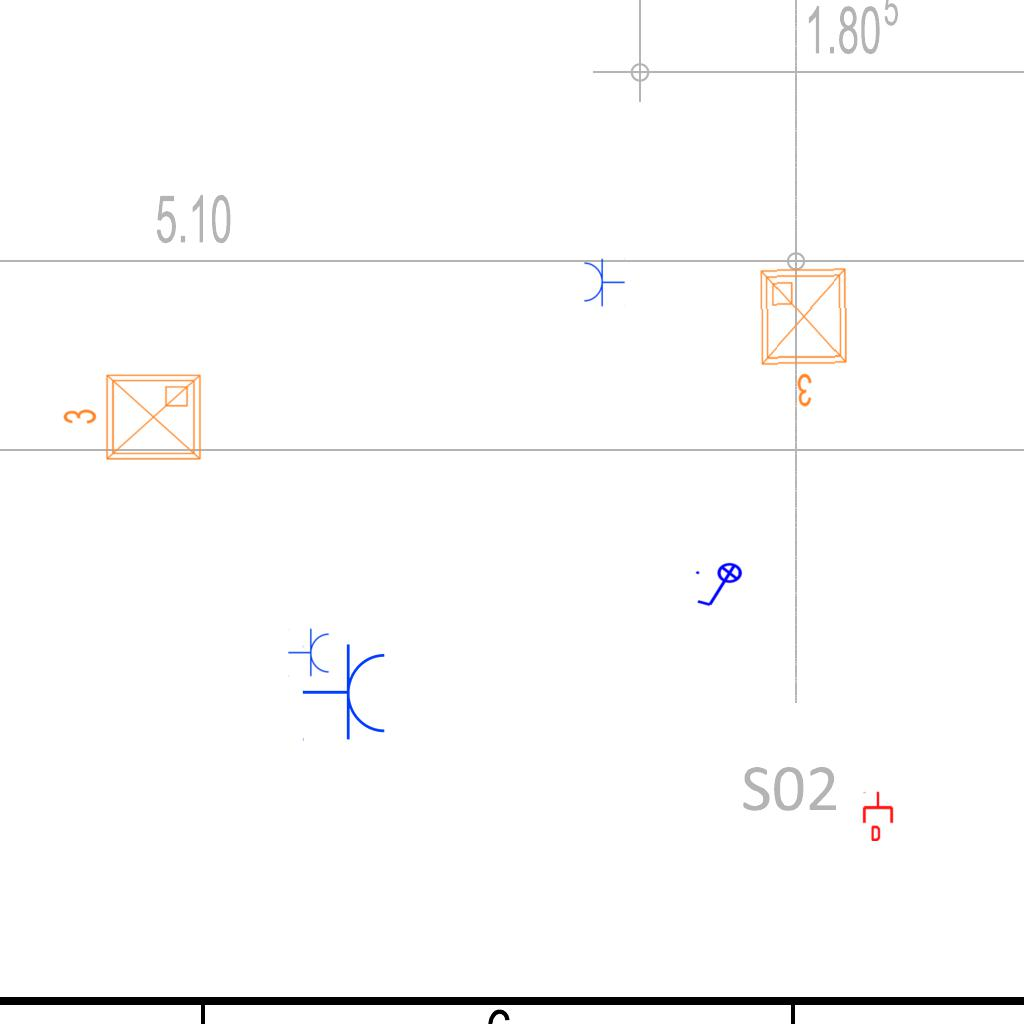Ausschalter_beleuchtet: (693, 562, 749, 610)
Datenanschluss_einfach: (861, 791, 895, 841)
Einbaudownlights_LED_Konferenzraeume: (752, 261, 860, 413), (58, 367, 208, 471)
Schukosteckdose_einfach: (302, 643, 389, 743), (582, 257, 625, 307), (288, 628, 331, 678)
